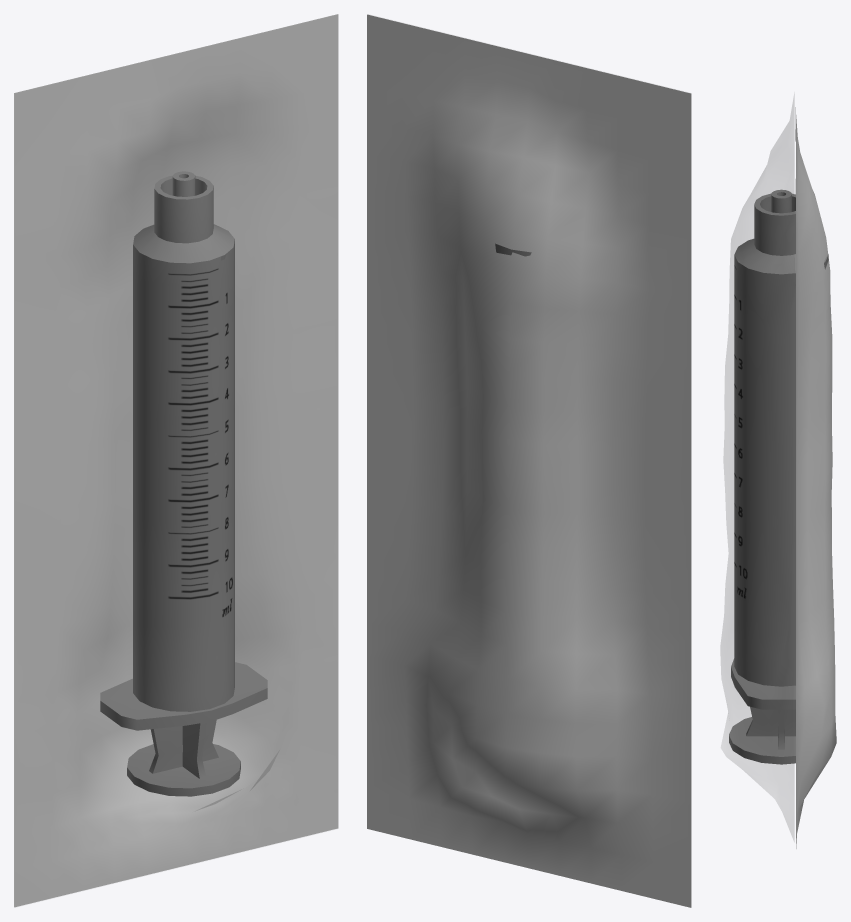
Rendered from syringe_10ml.fbx.
The picture shows the model from 3 angles, left to right: view 1: azimuth 30°, elevation 25°; view 2: azimuth 150°, elevation 25°; view 3: azimuth 270°, elevation 25°; orthographic projection. The views are drawn at different scales.
Parts seen in each view (by area): view 1: syringe_10ml_cover_back, syringe_10ml_out, syringe_10ml_in; view 2: syringe_10ml_cover_back; view 3: syringe_10ml_out, syringe_10ml_cover_back, syringe_10ml_cover_front, syringe_10ml_in.
Part boxes in pixels (box(x1,y1,x2,y2)): syringe_10ml_cover_back: box(14, 14, 338, 907); syringe_10ml_out: box(100, 171, 267, 730); syringe_10ml_in: box(127, 720, 240, 796); syringe_10ml_cover_back: box(367, 14, 691, 907); syringe_10ml_out: box(731, 189, 828, 709); syringe_10ml_cover_back: box(795, 107, 836, 848); syringe_10ml_cover_front: box(720, 94, 795, 841); syringe_10ml_in: box(729, 706, 795, 764).
Size of the model in its own units: 6.2 by 14.89 by 2.1.
